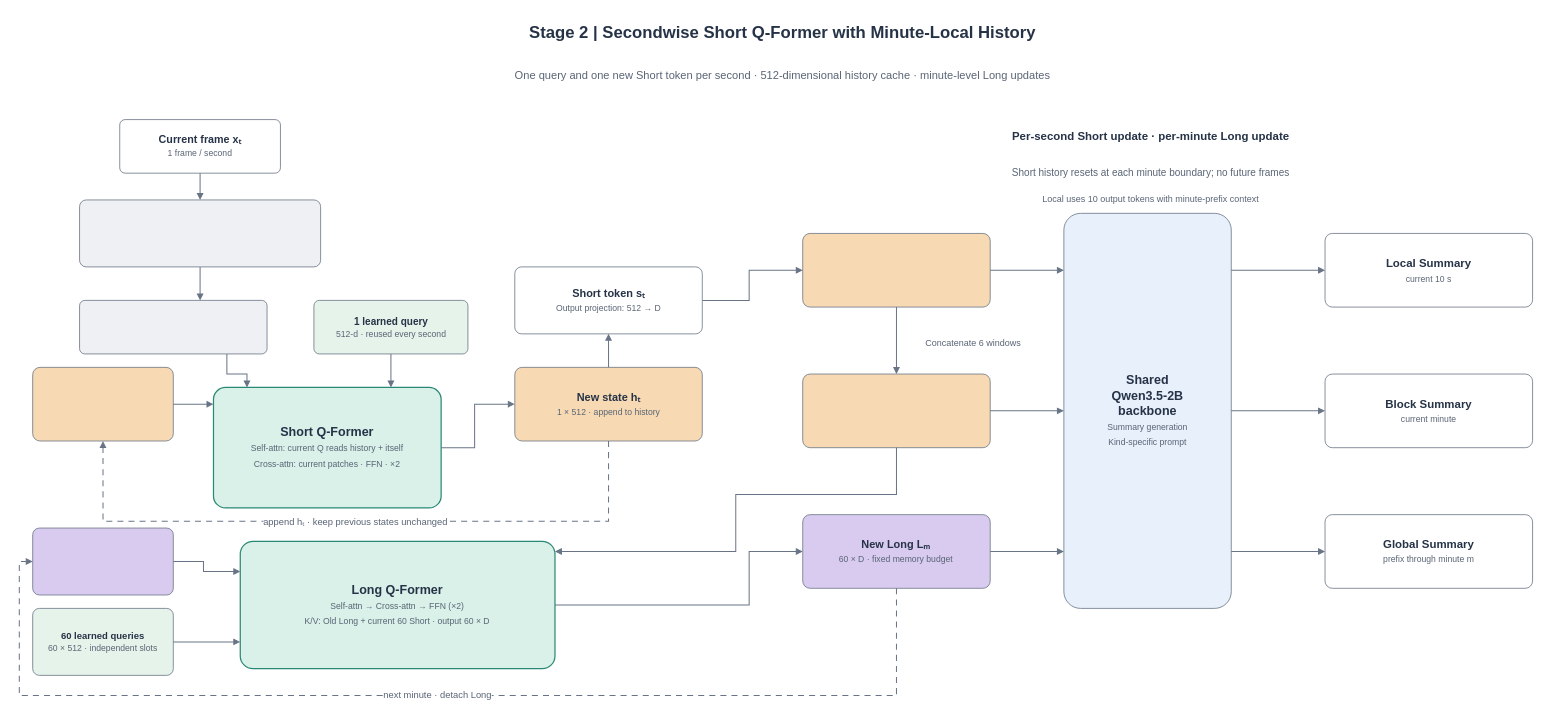
The diagram is 1565 pixels wide and 714 high, and some of its shapes have lost their labels. The shapes that lost their labels are listed below. From the top down, each one's centre as x and y in pixels, then its label:
At (x=200, y=233): "Vision encoder + merger Qwen3.5 · frozen".
At (x=896, y=270): "10 short tokens 10 × D · current 10 s".
At (x=173, y=327): "Current visual patches Pₜ ∈ ℝᴺˣᴰ · K/V".
At (x=102, y=404): "History h₁…hₜ₋₁ (t−1) × 512 · minute-local".
At (x=896, y=410): "60 short tokens 60 × D · current minute".
At (x=102, y=561): "Old Long Lₘ₋₁ 60 × D · detached".
